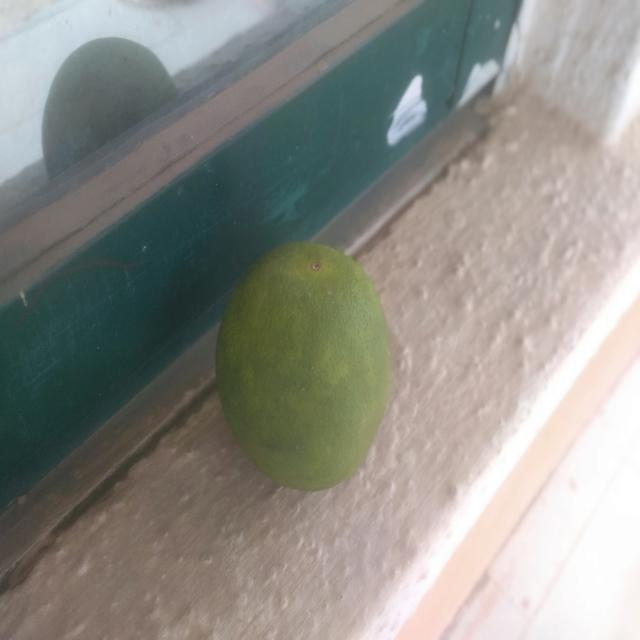Unripe: (196, 230, 431, 512)
